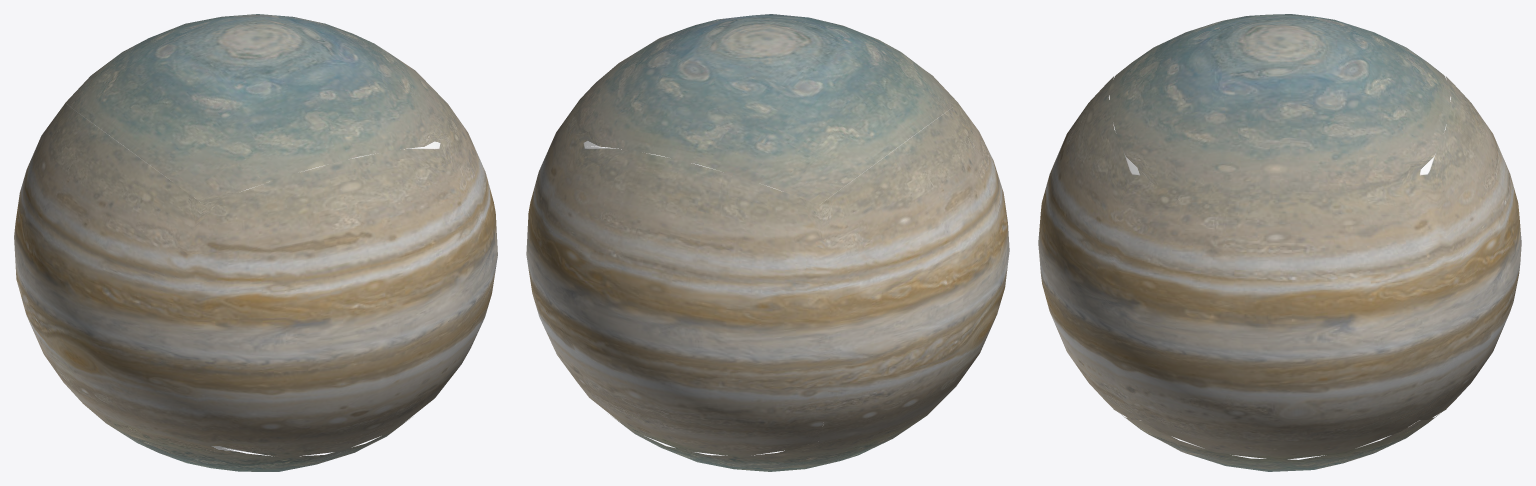
Rendered from Jupiter_1_142984.glb.
3 renders of one model, left to right at view 1: azimuth 30°, elevation 25°; view 2: azimuth 150°, elevation 25°; view 3: azimuth 270°, elevation 25°, orthographic.
Visible parts, largest first — view 1: cubemap; view 2: cubemap; view 3: cubemap.
Boxes of the visible parts, <box> form: cubemap: <box>14,14,497,471</box>; cubemap: <box>526,14,1009,471</box>; cubemap: <box>1038,14,1521,471</box>.
Size of the model in its own units: 1000 by 935 by 1000.
1 material, 1 textured.
